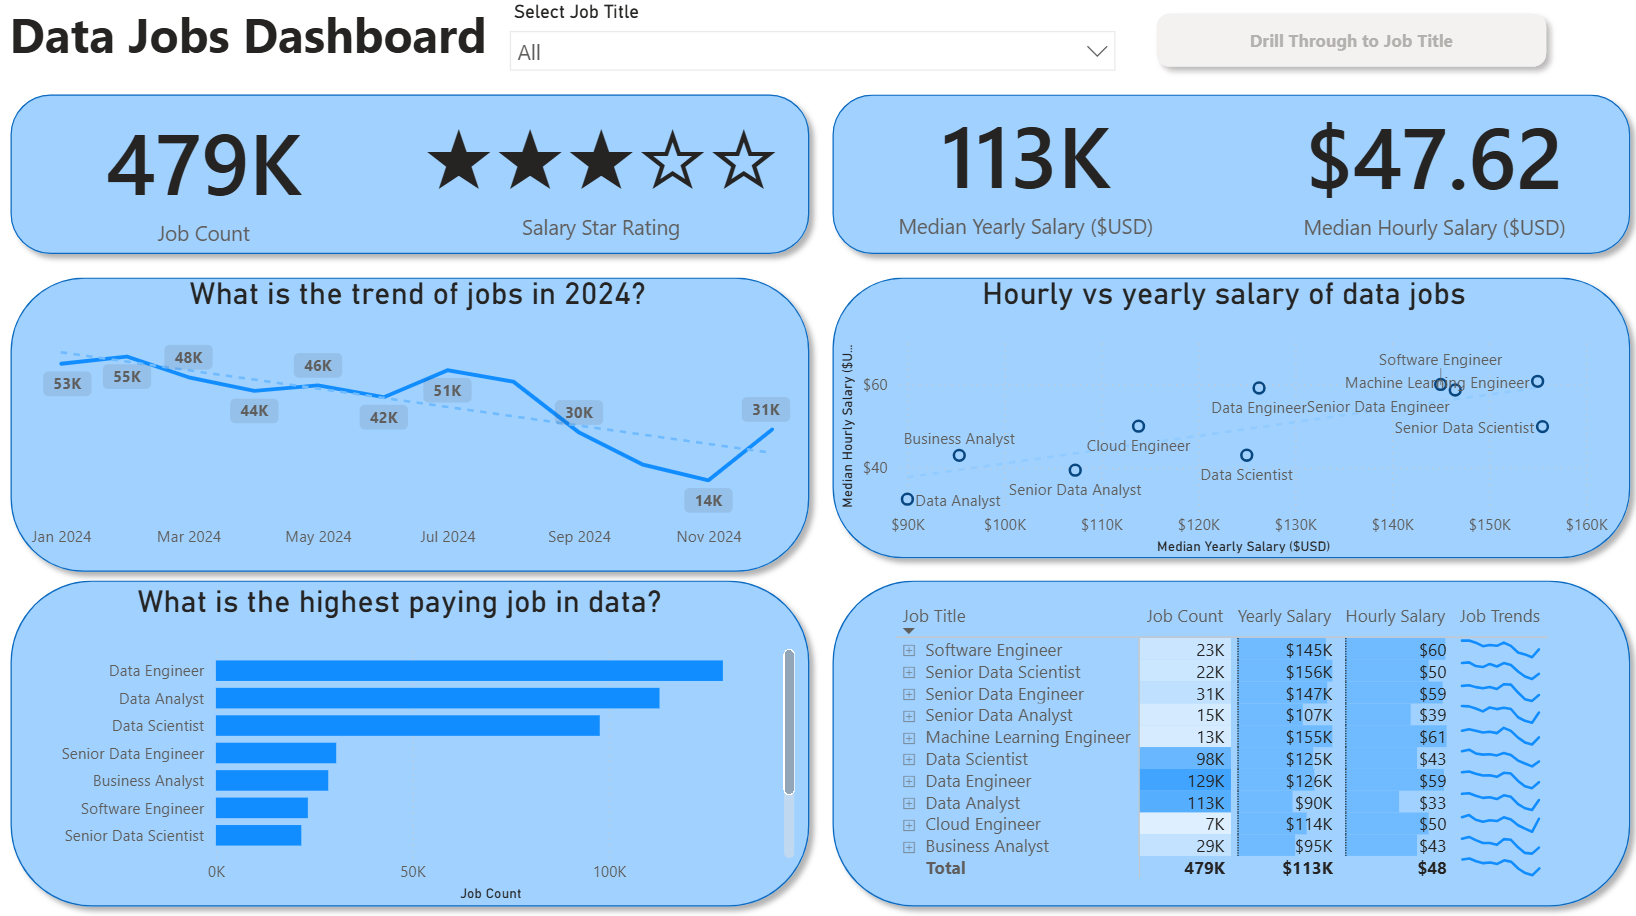

Layout of this report page (visuals, bound fields, positions):
{"tool":"powerbi","page":{"name":"Data Jobs Dashboard","canvas":[1280,720],"ordinal":0},"visuals":[{"type":"group","id":"g1","title":"Group 1","box":[0,68.9,1280,651],"z":0},{"type":"textbox","box":[0,0,388.1,69],"z":1000},{"type":"slicer","fields":{"Values":["job_postings_flat.job_title_short"]},"box":[388.1,0,491.6,69],"z":2000},{"type":"cardVisual","fields":{"Data":["CountNonNull(job_postings_flat.job_title_short)"]},"box":[0,64.8,319.1,150.1],"z":3000},{"type":"cardVisual","fields":{"Data":["job_postings_flat.Salary Star Rating"]},"box":[297.7,59.9,343.3,150.1],"z":4000},{"type":"cardVisual","fields":{"Data":["Median(job_postings_flat.salary_year_avg)"]},"box":[640.5,58.9,319.1,150.1],"z":5000},{"type":"cardVisual","fields":{"Data":["Median(job_postings_flat.salary_hour_avg)"]},"box":[958.8,59.9,320.9,150.1],"z":6000},{"type":"lineChart","title":"What is the trend of jobs in 2024?","fields":{"Category":["job_postings_flat.job_posted_date.Variation.Date Hierarchy.Year","job_postings_flat.job_posted_date.Variation.Date Hierarchy.Quarter","job_postings_flat.job_posted_date.Variation.Date Hierarchy.Month","job_postings_flat.job_posted_date.Variation.Date Hierarchy.Day"],"Y":["CountNonNull(job_postings_flat.job_title_short)"]},"box":[19.6,219.1,614,221],"z":7000},{"type":"barChart","title":"What is the highest paying job in data?","fields":{"Category":["job_postings_flat.job_title_short"],"Y":["CountNonNull(job_postings_flat.job_title_short)"]},"box":[0,458.8,624.8,251.5],"z":8000},{"type":"scatterChart","title":"Hourly vs yearly salary of data jobs","fields":{"Series":["job_postings_flat.job_title_short"],"Y":["Median(job_postings_flat.salary_hour_avg)"],"X":["Median(job_postings_flat.salary_year_avg)"]},"box":[650.3,219.1,608.1,221],"z":9000},{"type":"pivotTable","fields":{"Rows":["job_postings_flat.job_title_short","job_postings_flat.job_posted_date.Variation.Date Hierarchy.Quarter"],"Values":["CountNonNull(job_postings_flat.job_title_short)","Median(job_postings_flat.salary_year_avg)","Median(job_postings_flat.salary_hour_avg)","SparklineData(CountNonNull(job_postings_flat.job_title_short)_[job_postings_flat.job_posted_date.Variation.Date Hierarch"]},"box":[694.5,469.6,520.6,226.9],"z":10000},{"type":"actionButton","box":[893.1,0,321.5,59.2],"z":10001},{"type":"shape","box":[640.4,211.1,639.6,236.7],"z":13062,"group":"g1"},{"type":"shape","box":[640.4,447.9,639.6,272.1],"z":13125,"group":"g1"},{"type":"shape","box":[0,447.9,640.4,272.1],"z":13250,"group":"g1"},{"type":"shape","box":[0,211.1,640.4,247.3],"z":13500,"group":"g1"},{"type":"shape","box":[640.4,68.9,639.6,142.2],"z":14000,"group":"g1"},{"type":"shape","box":[0,68.9,640.4,142.2],"z":15000,"group":"g1"}]}

Visuals, with their boxes in screenshot pixels (x1, y1, x2, y2), scaled from the page's 1280x720 canvas onto the 1636x916 screenshot:
"Group 1" group: (left=0, top=88, right=1635, bottom=915)
textbox: (left=0, top=0, right=496, bottom=88)
slicer - job_postings_flat.job_title_short: (left=496, top=0, right=1124, bottom=88)
cardVisual - CountNonNull(job_postings_flat.job_title_short): (left=0, top=82, right=408, bottom=273)
cardVisual - job_postings_flat.Salary Star Rating: (left=380, top=76, right=819, bottom=267)
cardVisual - Median(job_postings_flat.salary_year_avg): (left=819, top=75, right=1226, bottom=266)
cardVisual - Median(job_postings_flat.salary_hour_avg): (left=1225, top=76, right=1635, bottom=267)
"What is the trend of jobs in 2024?" lineChart: (left=25, top=279, right=810, bottom=560)
"What is the highest paying job in data?" barChart: (left=0, top=584, right=799, bottom=904)
"Hourly vs yearly salary of data jobs" scatterChart: (left=831, top=279, right=1608, bottom=560)
pivotTable - job_postings_flat.job_title_short x job_postings_flat.job_posted_date.Variation.Date Hierarchy.Quarter: (left=888, top=597, right=1553, bottom=886)
actionButton: (left=1141, top=0, right=1552, bottom=75)
shape: (left=819, top=269, right=1635, bottom=570)
shape: (left=819, top=570, right=1635, bottom=915)
shape: (left=0, top=570, right=819, bottom=915)
shape: (left=0, top=269, right=819, bottom=583)
shape: (left=819, top=88, right=1635, bottom=269)
shape: (left=0, top=88, right=819, bottom=269)
